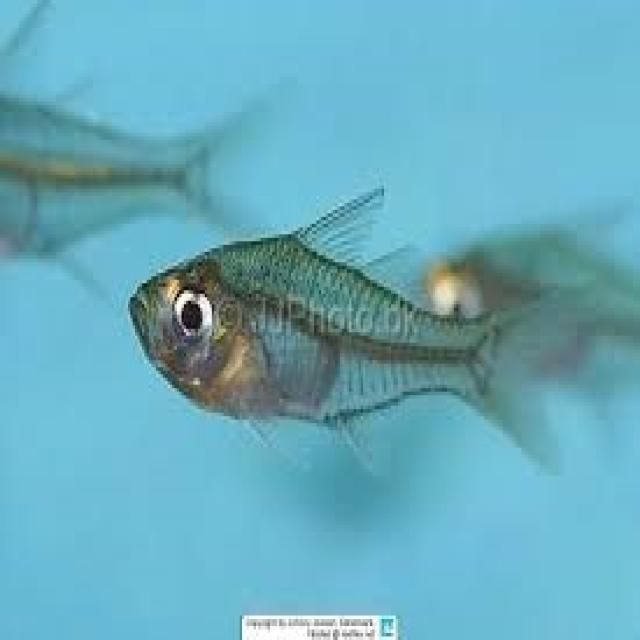Glass-Perchlet: (91, 160, 601, 518)
